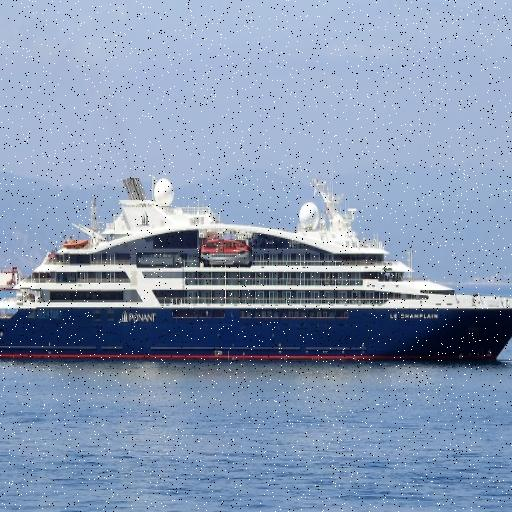cruises: (1, 162, 512, 372)
